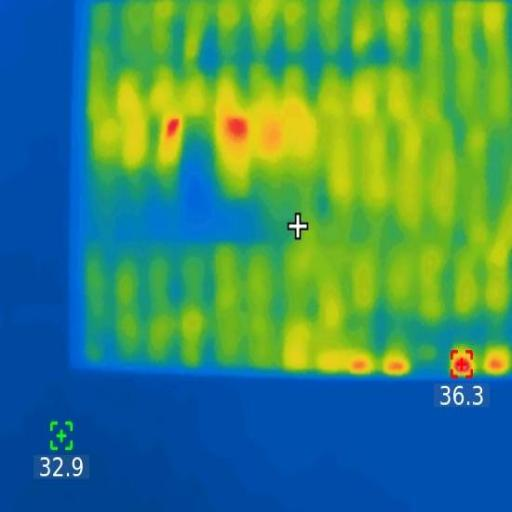hotspot: (226, 117, 248, 145), (454, 357, 470, 375), (166, 116, 181, 135), (386, 360, 406, 374), (490, 357, 502, 372)
